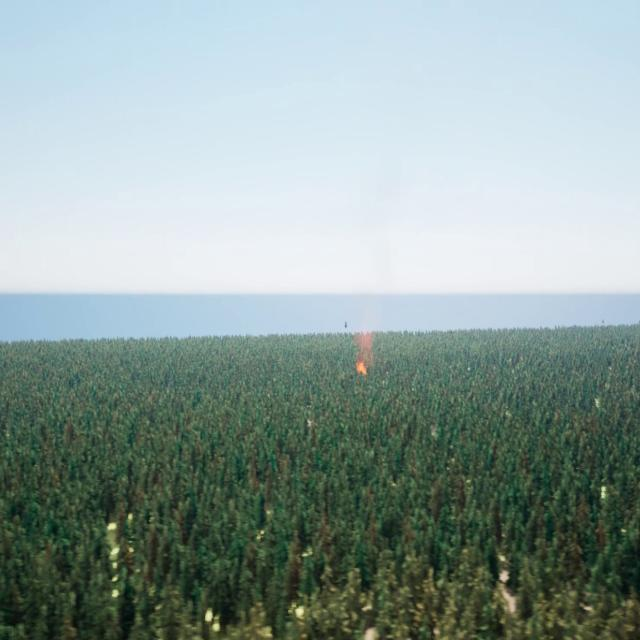fire: (357, 357, 368, 376)
smoke: (352, 323, 376, 366)
